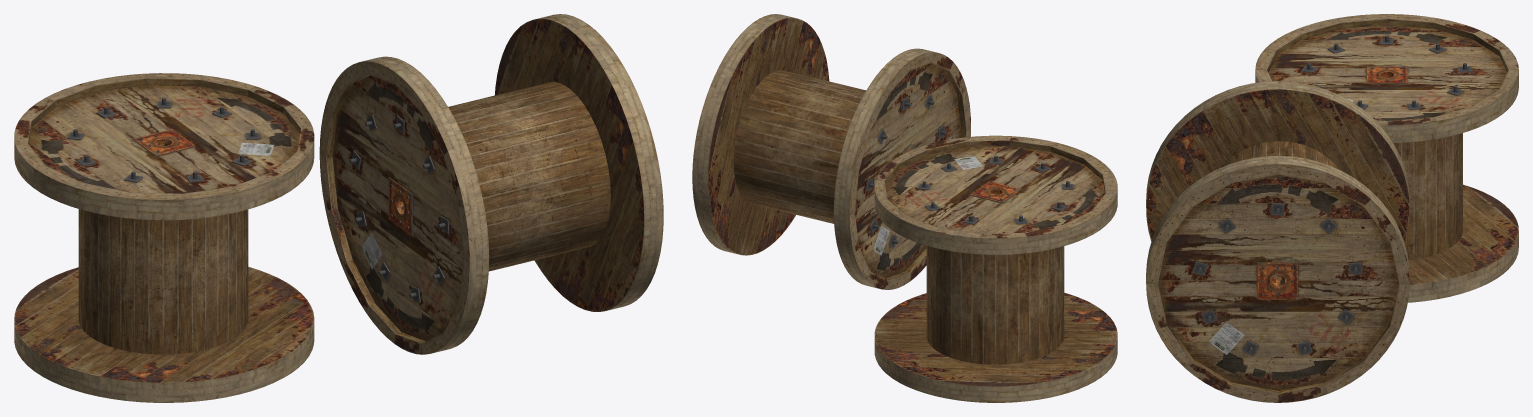
The model's file is cable spool.fbx.
3 renders of one model, left to right at view 1: azimuth 30°, elevation 25°; view 2: azimuth 150°, elevation 25°; view 3: azimuth 270°, elevation 25°, orthographic. The views are drawn at different scales.
Parts seen in each view (by area): view 1: katushka.001_katushka_0, katushka.001_katushka_0.001; view 2: katushka.001_katushka_0.001, katushka.001_katushka_0; view 3: katushka.001_katushka_0, katushka.001_katushka_0.001.
Part boxes in pixels (x1,y1,x2,y2): katushka.001_katushka_0: (319, 14, 663, 354); katushka.001_katushka_0.001: (14, 73, 314, 402); katushka.001_katushka_0.001: (874, 135, 1117, 402); katushka.001_katushka_0: (692, 14, 970, 289); katushka.001_katushka_0: (1146, 81, 1409, 402); katushka.001_katushka_0.001: (1255, 14, 1518, 302).
Size of the model in its own units: 341 by 180 by 255.
Materials: 1 (1 with a texture image).
